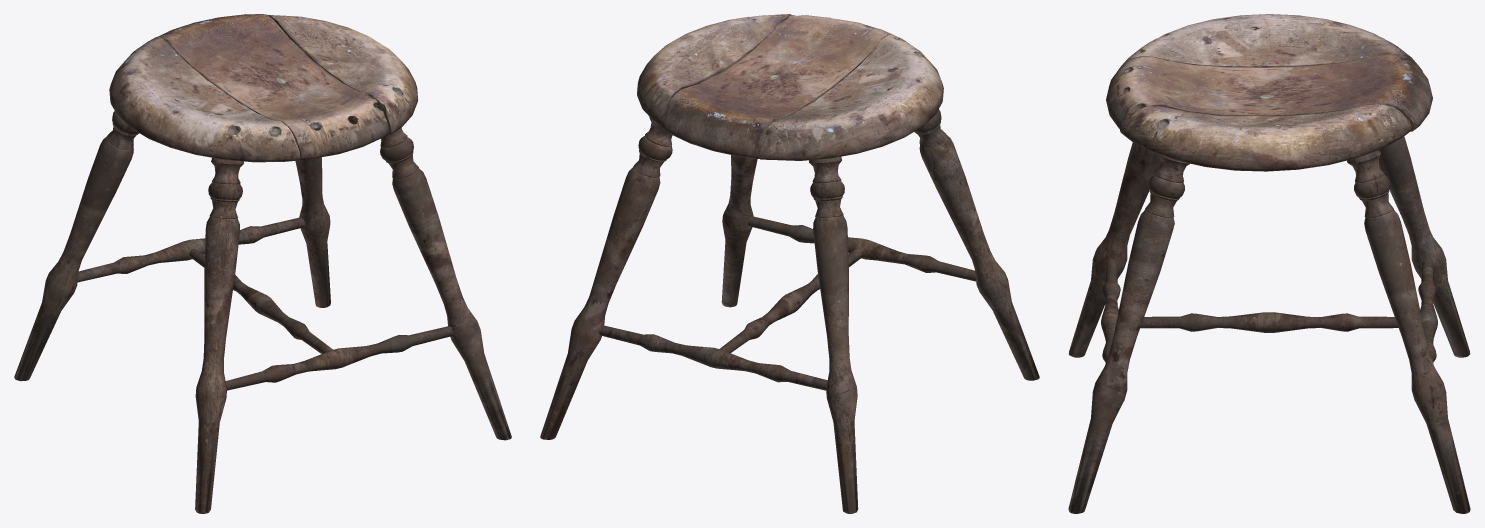
The model's file is wooden_stool_01.glb.
The picture shows the model from 3 angles, left to right: view 1: azimuth 30°, elevation 25°; view 2: azimuth 150°, elevation 25°; view 3: azimuth 270°, elevation 25°; orthographic projection. The views are drawn at different scales.
Parts seen in each view (by area): view 1: wooden_stool_01; view 2: wooden_stool_01; view 3: wooden_stool_01.
Boxes of the visible parts, x1,y1,x2,y2 form: wooden_stool_01: (14,14,511,513); wooden_stool_01: (540,14,1039,513); wooden_stool_01: (1068,14,1470,513).
Size of the model in its own units: 0.4246 by 0.4373 by 0.4424.
1 material, 1 textured.
